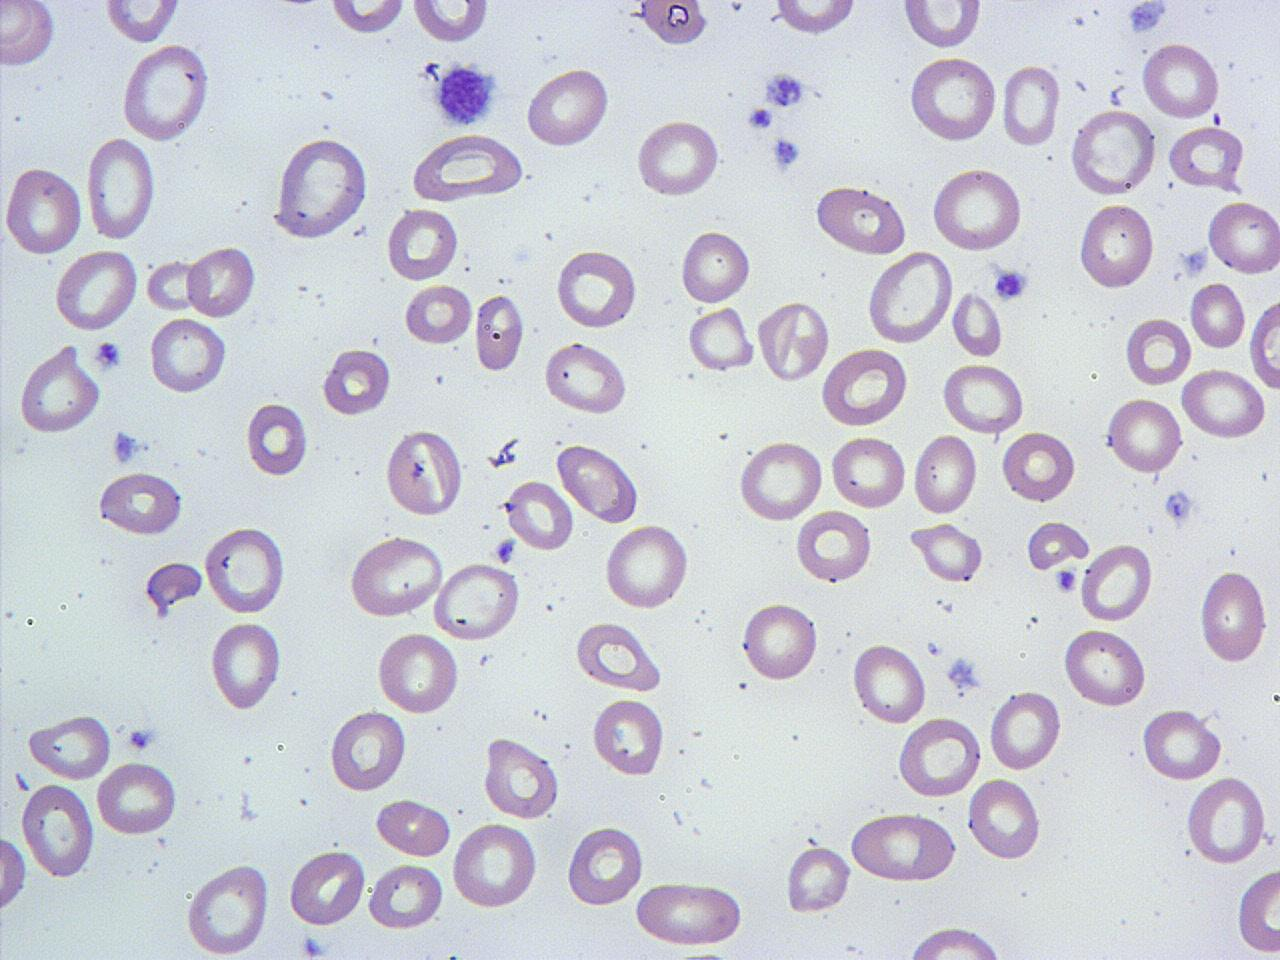Platelets: (432, 62, 496, 128), (761, 68, 807, 112), (991, 265, 1031, 304), (1126, 2, 1168, 35), (770, 135, 802, 173), (1163, 487, 1195, 524), (111, 427, 139, 468), (945, 657, 980, 689), (93, 338, 124, 372), (1181, 247, 1209, 276), (127, 727, 159, 752), (300, 931, 328, 959), (746, 106, 774, 131), (508, 242, 534, 268), (1055, 568, 1079, 594), (494, 536, 517, 564), (423, 61, 442, 82)
RBC: (271, 133, 371, 242), (119, 40, 212, 145), (184, 858, 272, 960), (346, 534, 444, 621), (865, 250, 953, 346), (848, 810, 959, 885), (408, 132, 526, 204), (449, 820, 540, 912), (906, 53, 998, 145), (1067, 107, 1159, 198), (929, 166, 1025, 253), (632, 879, 748, 950), (602, 520, 690, 612), (15, 342, 102, 436), (19, 778, 97, 882), (84, 135, 158, 242), (818, 344, 910, 431), (1184, 773, 1268, 868), (52, 246, 140, 336), (736, 438, 826, 524), (2, 162, 83, 258), (376, 628, 461, 718), (896, 714, 984, 800), (432, 560, 522, 643), (203, 525, 286, 615), (812, 182, 910, 258), (1061, 626, 1149, 710), (384, 427, 464, 518), (1077, 199, 1155, 292), (525, 65, 611, 149), (554, 245, 638, 332), (634, 116, 721, 199), (1198, 566, 1270, 666), (554, 442, 640, 524), (482, 734, 562, 822), (564, 822, 645, 910), (208, 617, 282, 712), (1139, 39, 1223, 122), (966, 773, 1042, 863), (572, 618, 664, 693), (739, 599, 819, 684), (287, 844, 367, 930), (146, 314, 228, 396), (328, 707, 406, 793), (1179, 365, 1267, 442), (1104, 393, 1184, 476), (850, 641, 928, 726), (1139, 705, 1225, 783), (542, 340, 628, 416), (756, 297, 831, 384), (591, 694, 666, 781), (94, 760, 178, 836), (941, 360, 1026, 436), (989, 688, 1063, 773), (794, 506, 874, 586), (830, 433, 908, 511), (365, 858, 445, 934), (95, 470, 183, 538), (1079, 542, 1153, 623), (27, 710, 112, 781), (1000, 429, 1076, 505), (1205, 198, 1279, 277), (385, 204, 459, 283), (911, 431, 978, 517), (679, 228, 752, 306), (185, 243, 257, 320), (1000, 62, 1062, 148), (1166, 124, 1246, 192), (322, 346, 394, 419), (505, 476, 574, 553), (372, 796, 453, 860), (244, 399, 308, 479), (1124, 314, 1192, 388), (783, 841, 852, 916), (908, 520, 984, 584), (686, 306, 754, 374), (402, 282, 474, 347), (1186, 279, 1248, 352), (1234, 864, 1280, 958), (900, 1, 982, 52), (472, 292, 524, 372), (900, 924, 1014, 960), (1, 0, 57, 71), (408, 0, 491, 47), (637, 0, 711, 51), (102, 1, 181, 47), (949, 289, 1005, 356), (144, 558, 205, 618), (1248, 288, 1280, 396), (770, 0, 860, 38), (144, 258, 204, 314), (1025, 519, 1087, 571), (0, 821, 29, 923), (327, 0, 408, 36)
WBC: (270, 135, 374, 247)
